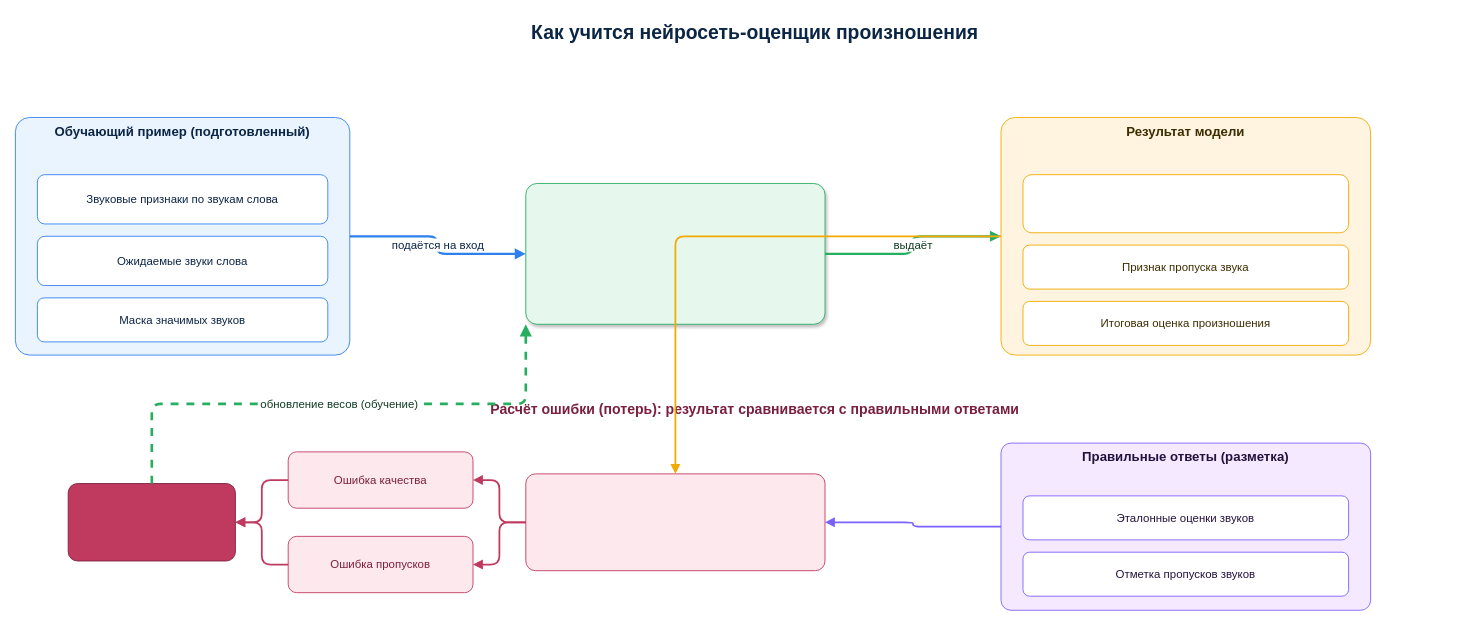
This 1474x626 diagram has some shape labels left out. Here are the shapes that lost their labels. From the top down, the centre of each, then its label:
At point 1185,203: "Вероятности качества по каждому звуку: неверно / с акцентом / верно".
At point 675,254: "Нейросеть-оценщик произношения".
At point 151,522: "Итоговая ошибка".
At point 675,522: "Сравнение результата модели с правильными ответами".
